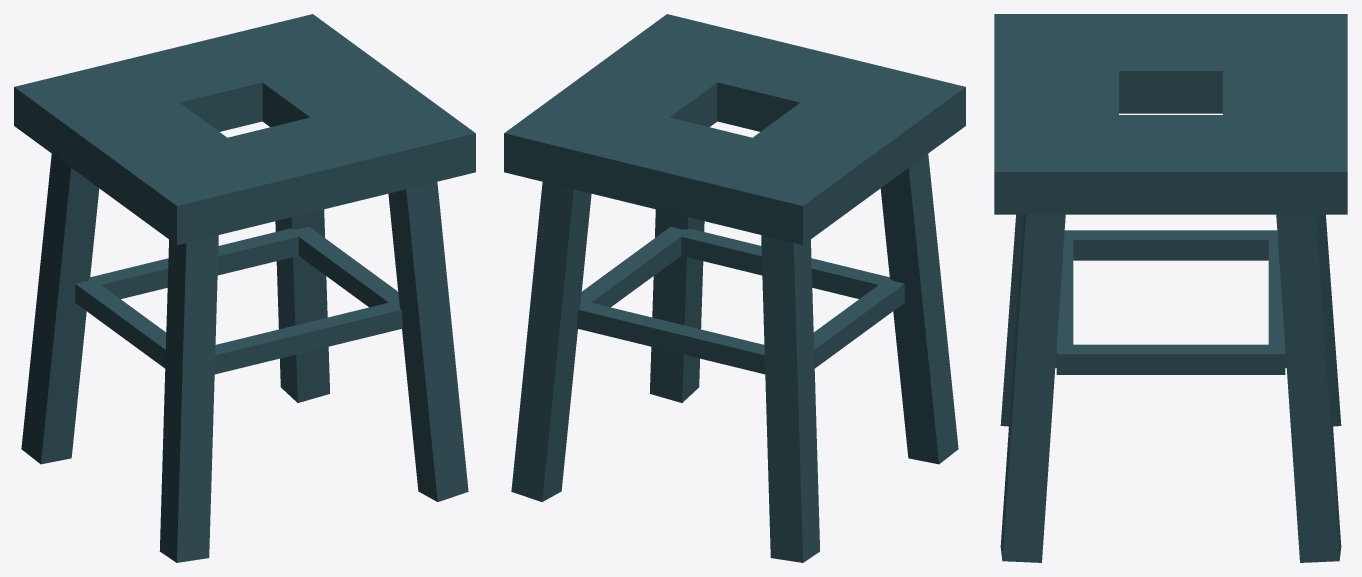
3 renders of one model, left to right at view 1: azimuth 30°, elevation 25°; view 2: azimuth 150°, elevation 25°; view 3: azimuth 270°, elevation 25°, orthographic. The views are drawn at different scales.
Parts seen in each view (by area): view 1: a36; view 2: a36; view 3: a36.
Boxes of the visible parts, bbox=[...] form: a36: bbox=[14, 14, 475, 562]; a36: bbox=[504, 14, 965, 562]; a36: bbox=[994, 14, 1347, 562].
Size of the model in its own units: 0.36 by 0.42 by 0.34.
